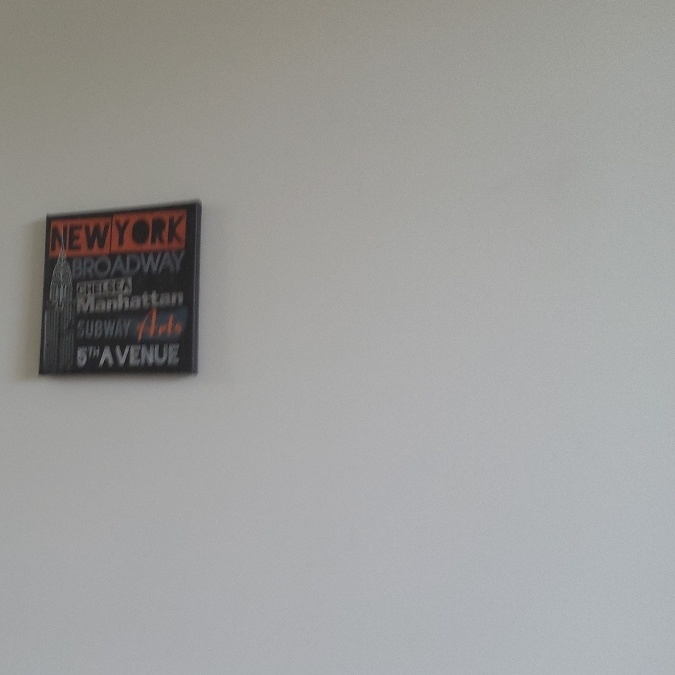poster: (29, 200, 207, 384)
